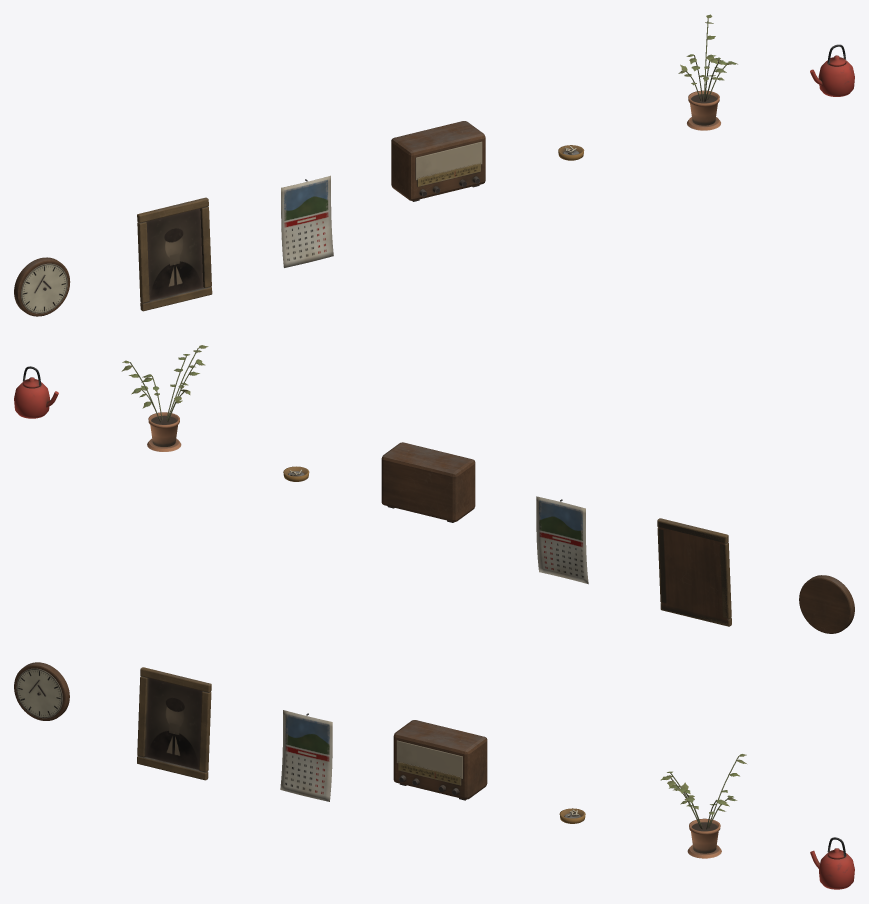
The model's file is FlatDecor.fbx.
3 renders of one model, top to bottom at view 1: azimuth 30°, elevation 25°; view 2: azimuth 150°, elevation 25°; view 3: azimuth 330°, elevation 25°, orthographic.
Visible parts, largest first — view 1: Portrait, Radio, Calendar, WallClock, PottedPlant, Kettle; view 2: Portrait, Radio, Calendar, WallClock, PottedPlant, Kettle; view 3: Portrait, Radio, Calendar, WallClock, PottedPlant, Kettle.
Boxes of the visible parts, x1=… form: Portrait: x1=137, y1=197, x2=212, y2=311; Radio: x1=391, y1=121, x2=485, y2=201; Calendar: x1=281, y1=175, x2=333, y2=267; WallClock: x1=14, y1=257, x2=70, y2=316; PottedPlant: x1=678, y1=14, x2=737, y2=130; Kettle: x1=810, y1=44, x2=854, y2=96; Portrait: x1=657, y1=518, x2=731, y2=626; Radio: x1=381, y1=442, x2=475, y2=522; Calendar: x1=536, y1=496, x2=588, y2=584; WallClock: x1=799, y1=575, x2=854, y2=633; PottedPlant: x1=121, y1=345, x2=208, y2=451; Kettle: x1=14, y1=366, x2=58, y2=418; Portrait: x1=137, y1=667, x2=211, y2=780; Radio: x1=393, y1=720, x2=487, y2=800; Calendar: x1=280, y1=710, x2=332, y2=801; WallClock: x1=14, y1=662, x2=69, y2=720; PottedPlant: x1=660, y1=754, x2=746, y2=858; Kettle: x1=810, y1=837, x2=854, y2=889.
Bounding box in the file's own units: 5.05 × 0.7903 × 0.4489.
